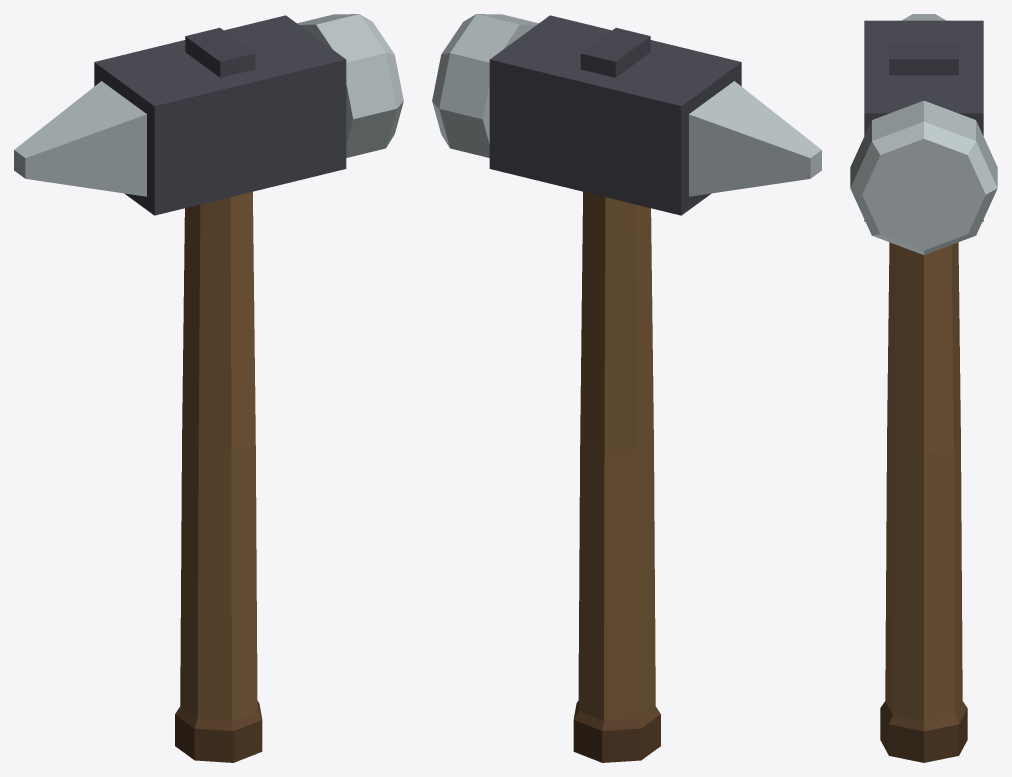
File: held_hammer.glb
3 views of the same model, side by side, from view 1: azimuth 30°, elevation 25°; view 2: azimuth 150°, elevation 25°; view 3: azimuth 270°, elevation 25° (orthographic).
Visible parts, largest first — view 1: held_hammer; view 2: held_hammer; view 3: held_hammer.
Part boxes in pixels (left/top/right/bottom): held_hammer: left=14, top=14, right=403, bottom=762; held_hammer: left=432, top=14, right=821, bottom=762; held_hammer: left=850, top=14, right=997, bottom=762.
Size of the model in its own units: 0.405 by 0.7675 by 0.148.
